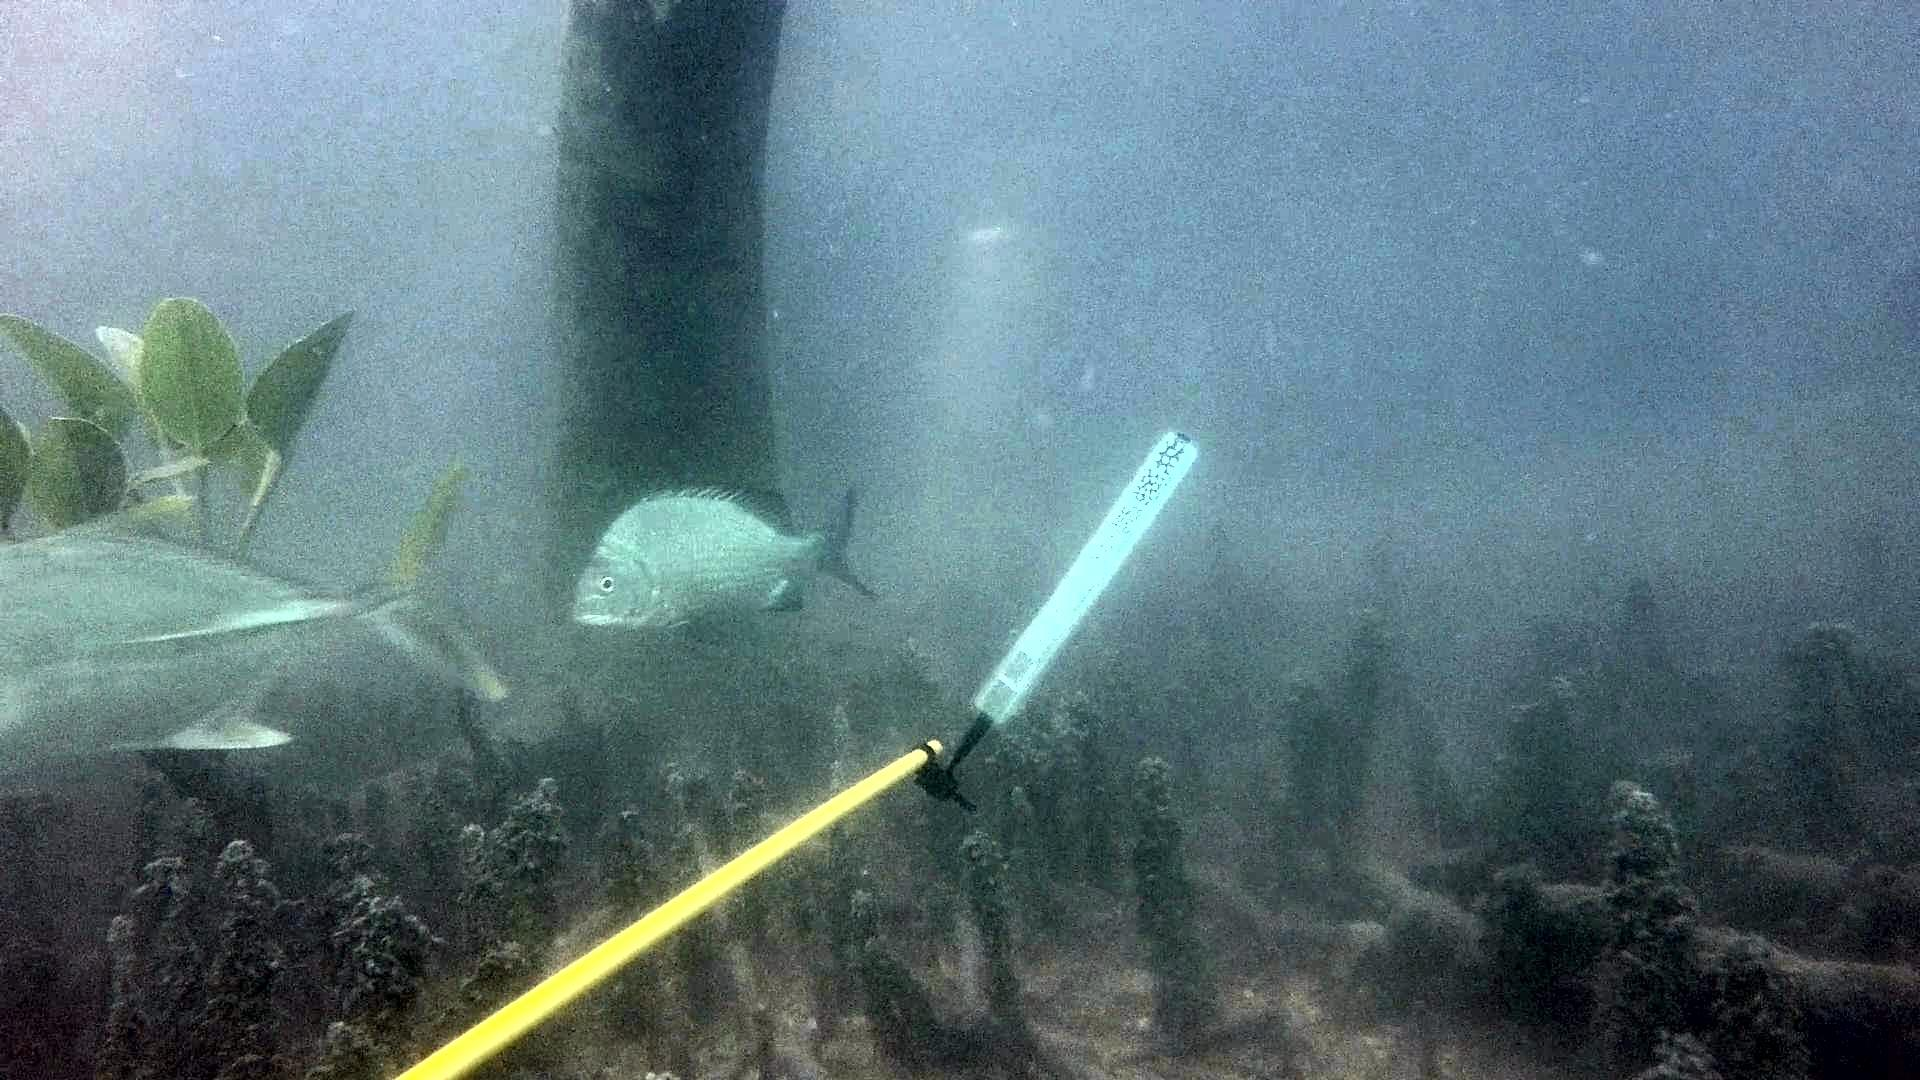acanthopagrus palmaris: (566, 468, 884, 653)
caranx: (3, 465, 516, 782)
